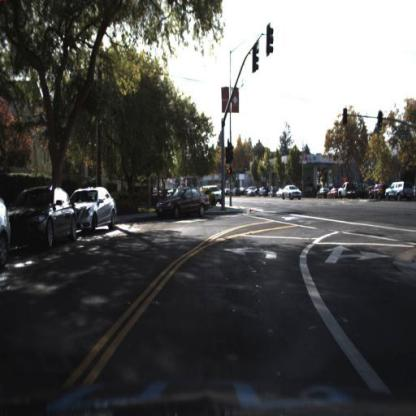car: (9, 183, 76, 257), (74, 182, 117, 238), (155, 184, 212, 220), (333, 178, 368, 201), (384, 178, 414, 201), (280, 180, 306, 203), (383, 180, 410, 201), (335, 182, 365, 199), (207, 183, 226, 205), (367, 185, 387, 203)
